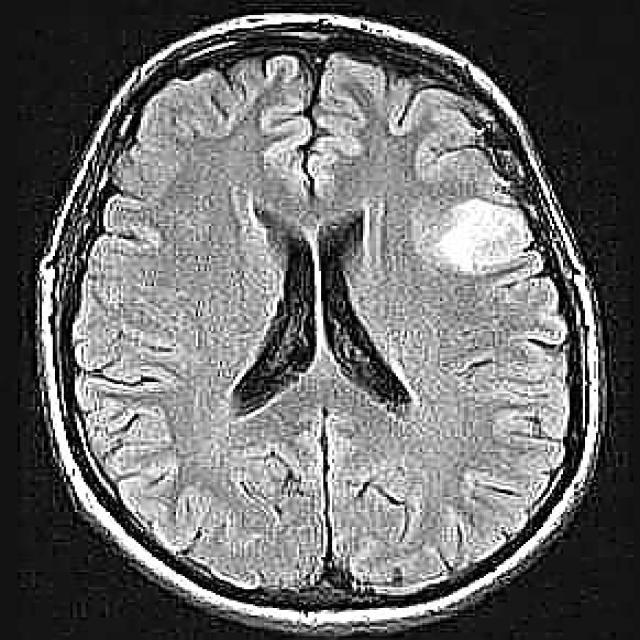Tumor-Cell: (411, 197, 538, 286)
